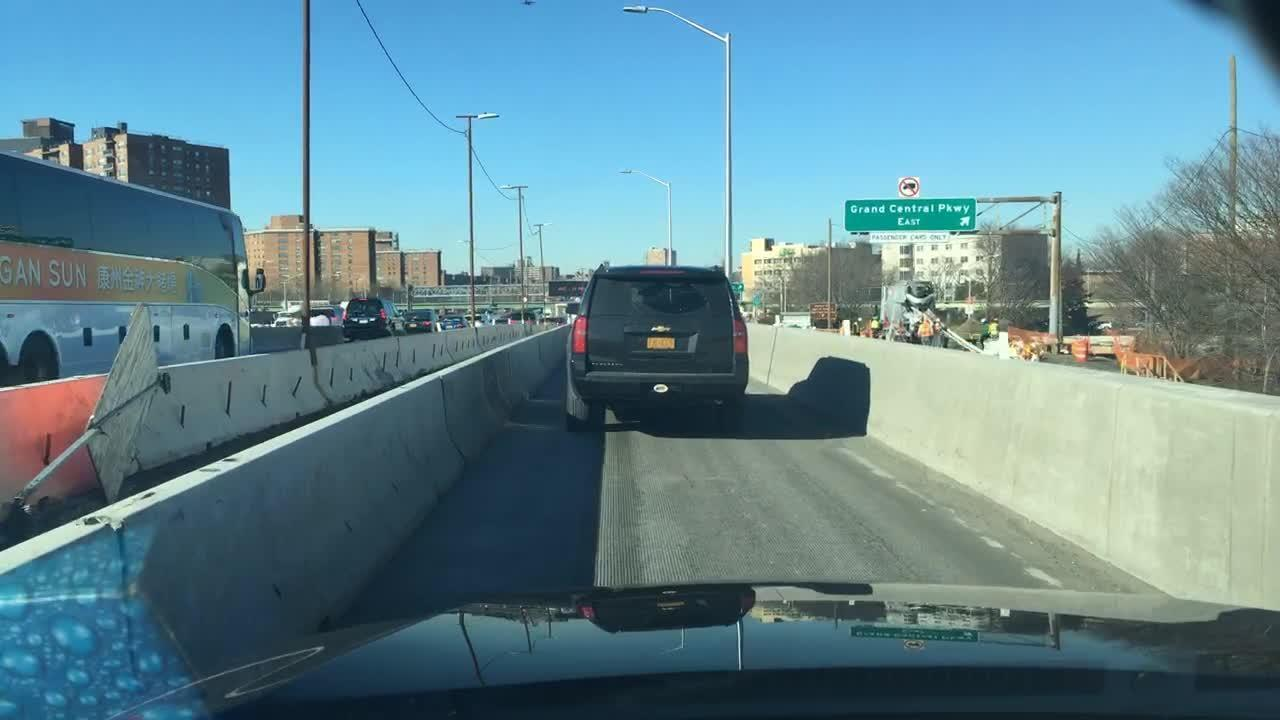chevrolet: (642, 318, 677, 334)
